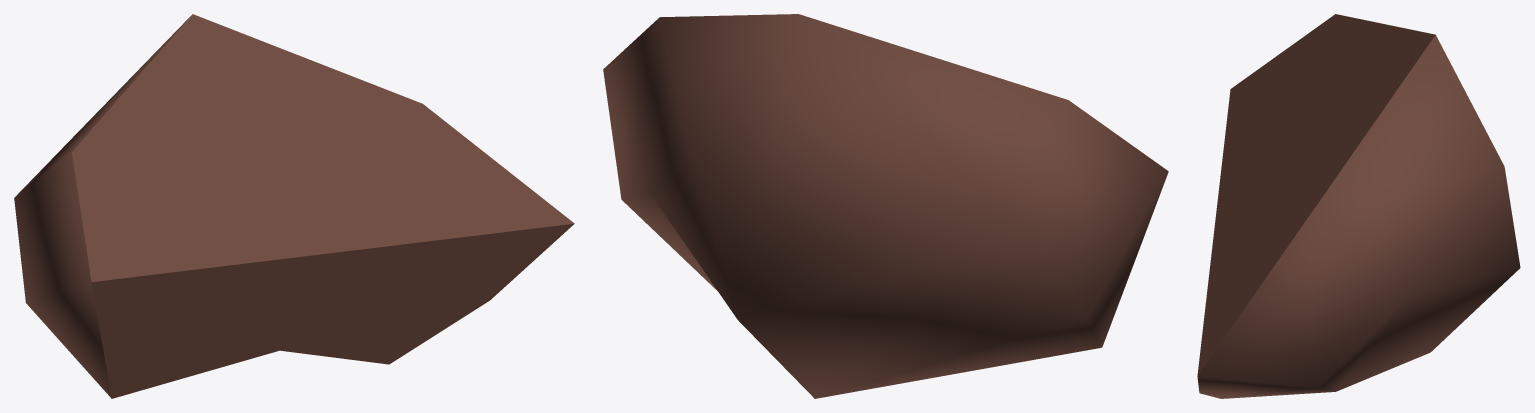
The model's file is p_mesh_hvs_rock_medium01_destruction_part04_col.fbx.
3 renders of one model, left to right at view 1: azimuth 30°, elevation 25°; view 2: azimuth 150°, elevation 25°; view 3: azimuth 270°, elevation 25°, orthographic. The views are drawn at different scales.
Parts seen in each view (by area): view 1: p_medium_destruction_part04_col; view 2: p_medium_destruction_part04_col; view 3: p_medium_destruction_part04_col.
Boxes of the visible parts, x1,y1,x2,y2 form: p_medium_destruction_part04_col: (14, 14, 574, 398); p_medium_destruction_part04_col: (603, 14, 1168, 398); p_medium_destruction_part04_col: (1197, 14, 1520, 398).
Bounding box in the file's own units: 9.35 × 5.86 × 5.3.
